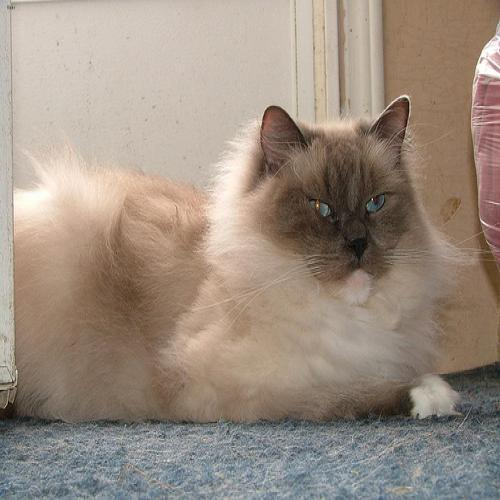ragdoll: (246, 94, 431, 324)
